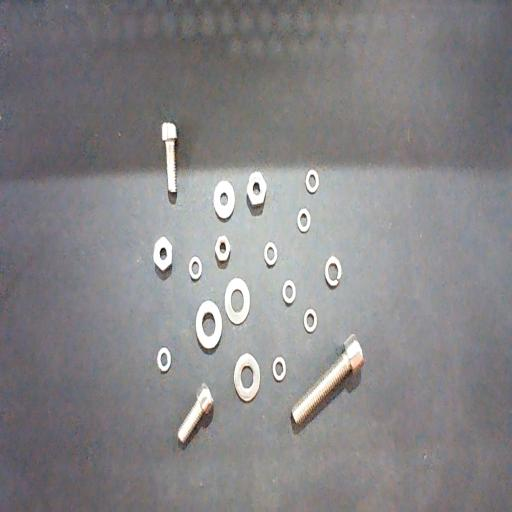nut: (153, 236, 173, 273), (247, 170, 266, 207), (214, 235, 230, 263)
screw: (292, 333, 364, 425), (178, 383, 214, 445), (162, 122, 177, 193)
washer: (196, 301, 222, 350), (234, 353, 260, 402), (225, 278, 250, 324), (214, 179, 235, 219), (324, 256, 342, 288), (157, 347, 171, 373), (297, 208, 311, 233), (264, 241, 277, 267), (306, 168, 319, 194), (304, 308, 317, 334), (282, 280, 296, 304), (189, 256, 202, 281), (273, 357, 286, 382)
